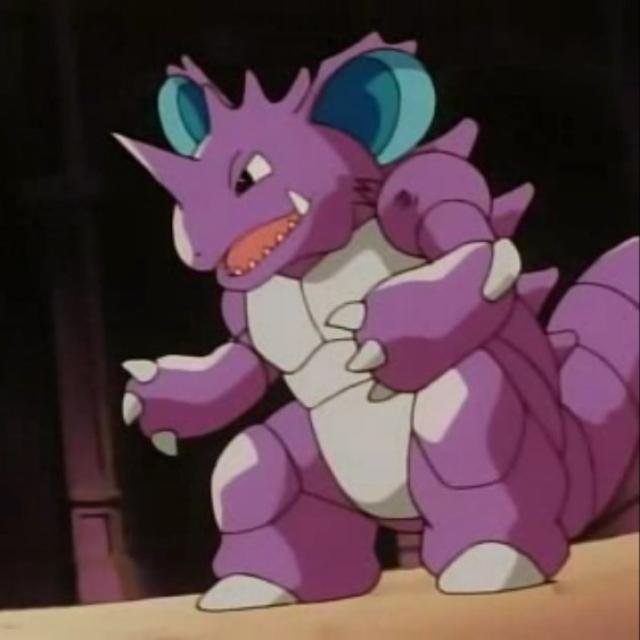Nidoking: (103, 34, 640, 627)
